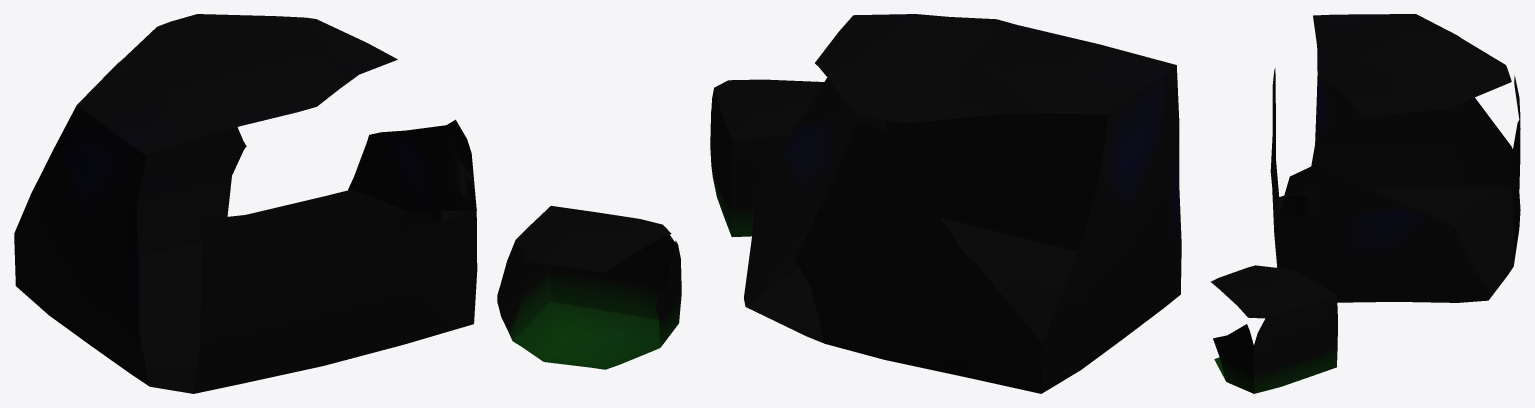
File: hero_glacier_rock.glb
The picture shows the model from 3 angles, left to right: view 1: azimuth 30°, elevation 25°; view 2: azimuth 150°, elevation 25°; view 3: azimuth 270°, elevation 25°; orthographic projection. The views are drawn at different scales.
Parts seen in each view (by area): view 1: HeroGlacierRock; view 2: HeroGlacierRock; view 3: HeroGlacierRock.
Part boxes in pixels (bbox=[...]): HeroGlacierRock: bbox=[14, 14, 681, 393]; HeroGlacierRock: bbox=[710, 14, 1181, 393]; HeroGlacierRock: bbox=[1210, 14, 1520, 393].
Size of the model in its own units: 4.85 by 2.49 by 3.4.
